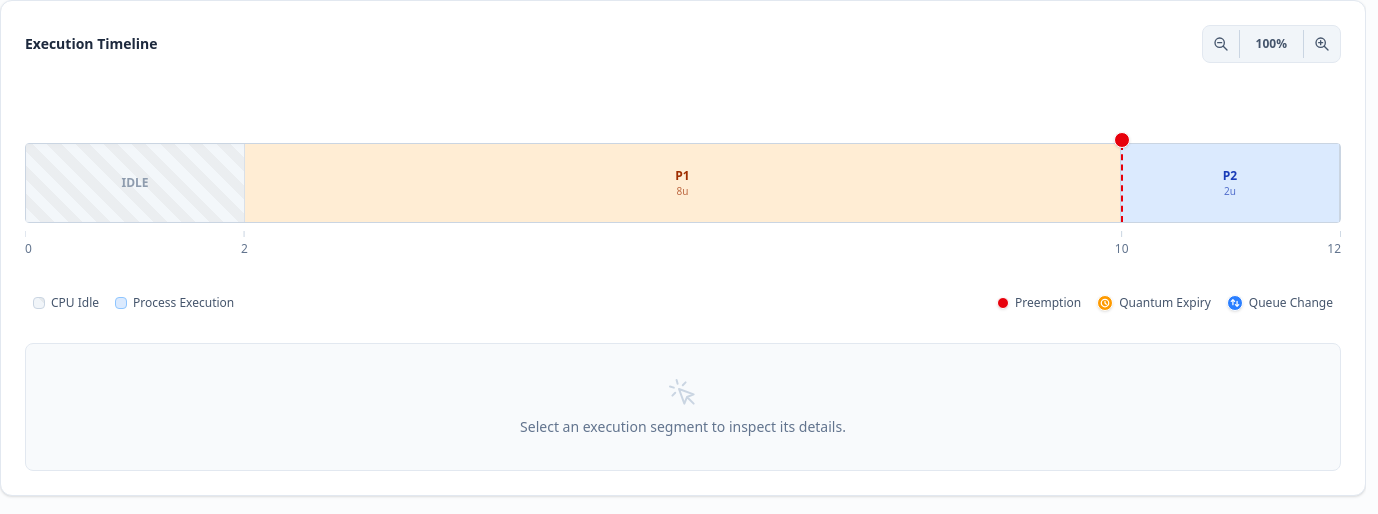
Scenario: GanttChart Component › handles zoom controls without mutating original data
The image size is (1378, 514).
Click the button titled "Zoom In" at [1322, 44], box x1=1308 y1=30 x2=1336 y2=58
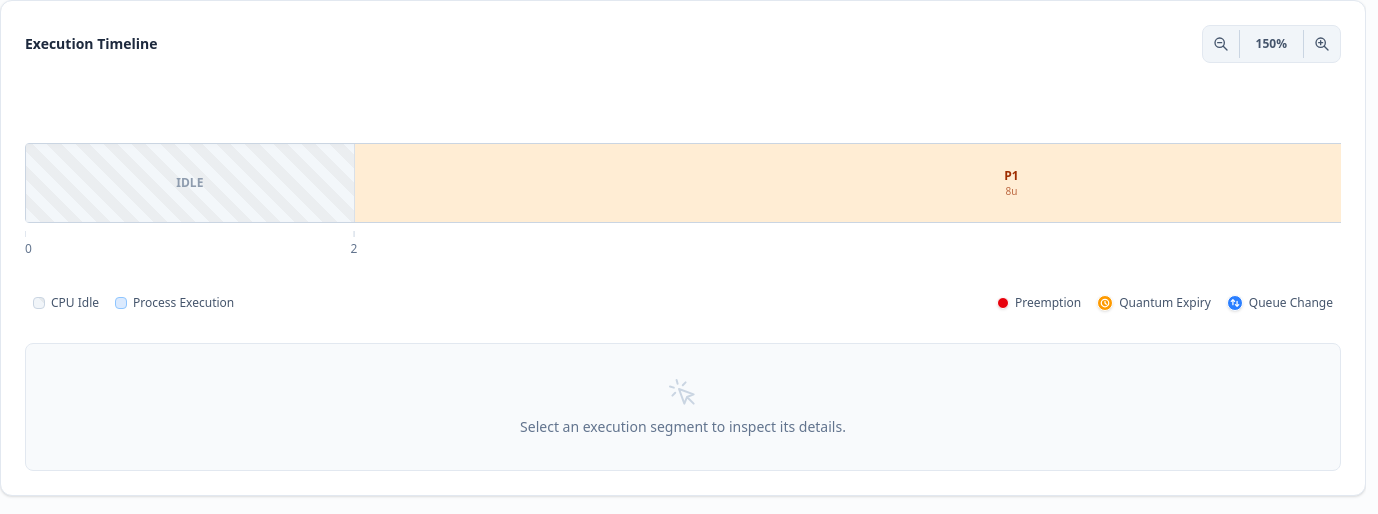
Expected: the button "150%" is shown, x1=1244 y1=30 x2=1299 y2=58
